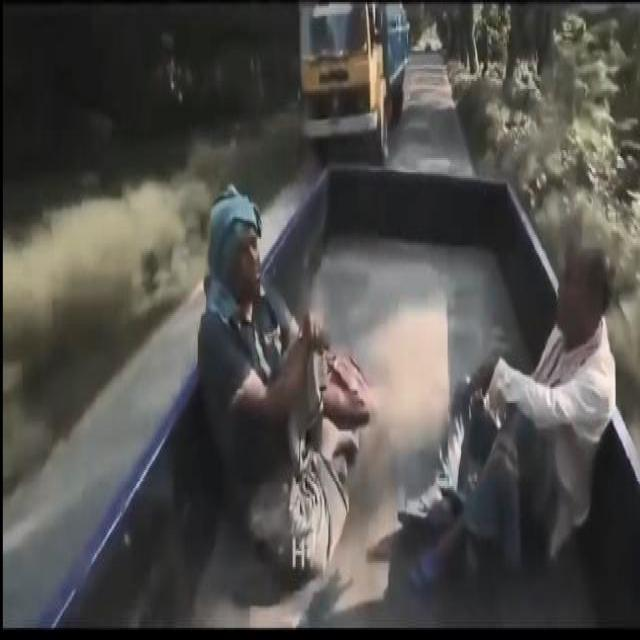vehicle: (296, 3, 409, 163)
